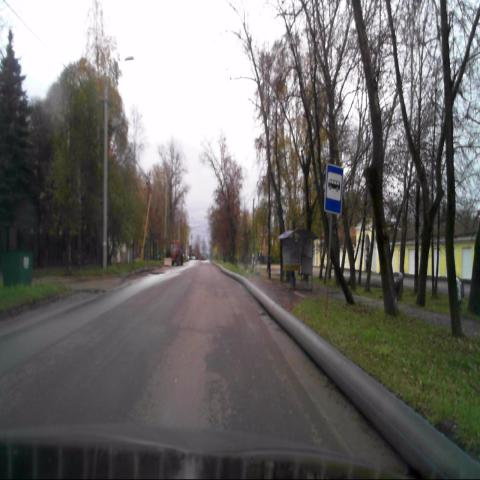5_16: (325, 165, 343, 215)
